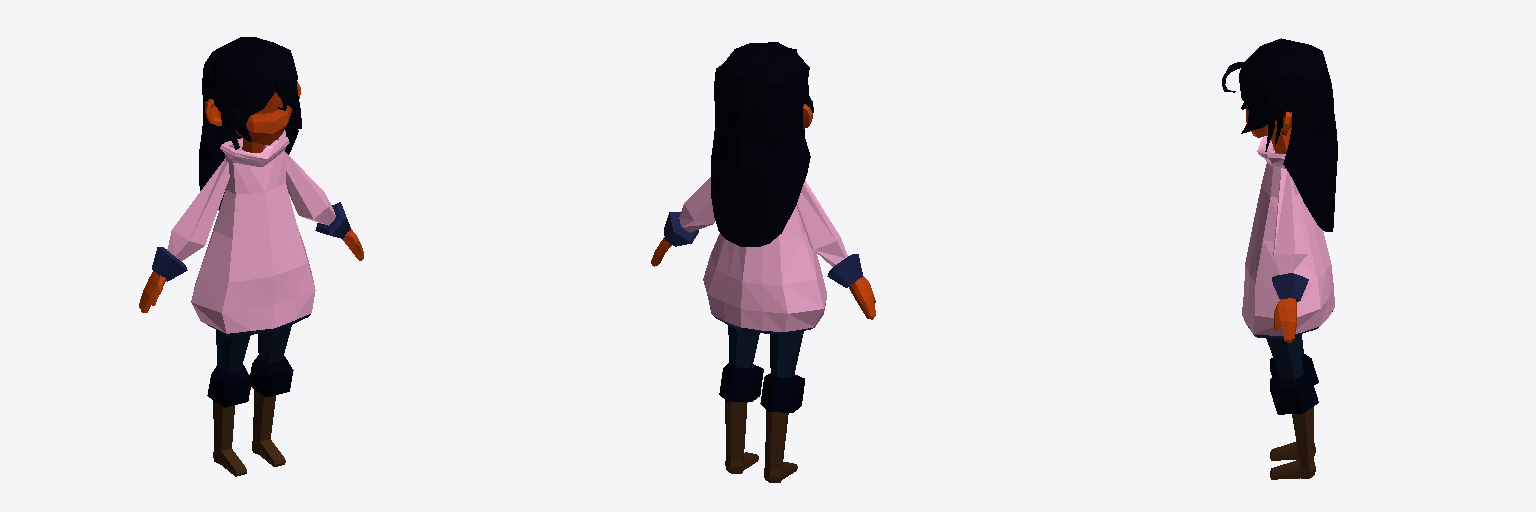
Rendered from lowpolygirl_blue_version.obj.
3 views of the same model, side by side, from view 1: azimuth 30°, elevation 25°; view 2: azimuth 150°, elevation 25°; view 3: azimuth 270°, elevation 25° (orthographic).
Visible parts, largest first — view 1: body, hair, legs, arms, head, hands; view 2: hair, body, legs, arms, hands; view 3: hair, body, legs, arms, hands.
Boxes of the visible parts, x1,y1,x2,y2 form: body: [191, 130, 315, 336]; hair: [199, 37, 301, 209]; legs: [207, 325, 293, 476]; arms: [152, 152, 350, 281]; head: [235, 92, 291, 145]; hands: [139, 229, 363, 312]; hair: [711, 42, 813, 246]; body: [703, 206, 826, 334]; legs: [719, 325, 804, 482]; arms: [664, 177, 862, 287]; hands: [651, 237, 875, 319]; hair: [1239, 38, 1337, 231]; body: [1242, 136, 1334, 337]; legs: [1266, 334, 1318, 479]; arms: [1272, 168, 1308, 301]; hands: [1274, 298, 1296, 342].
Size of the model in its own units: 2.08 by 3.81 by 0.9492.